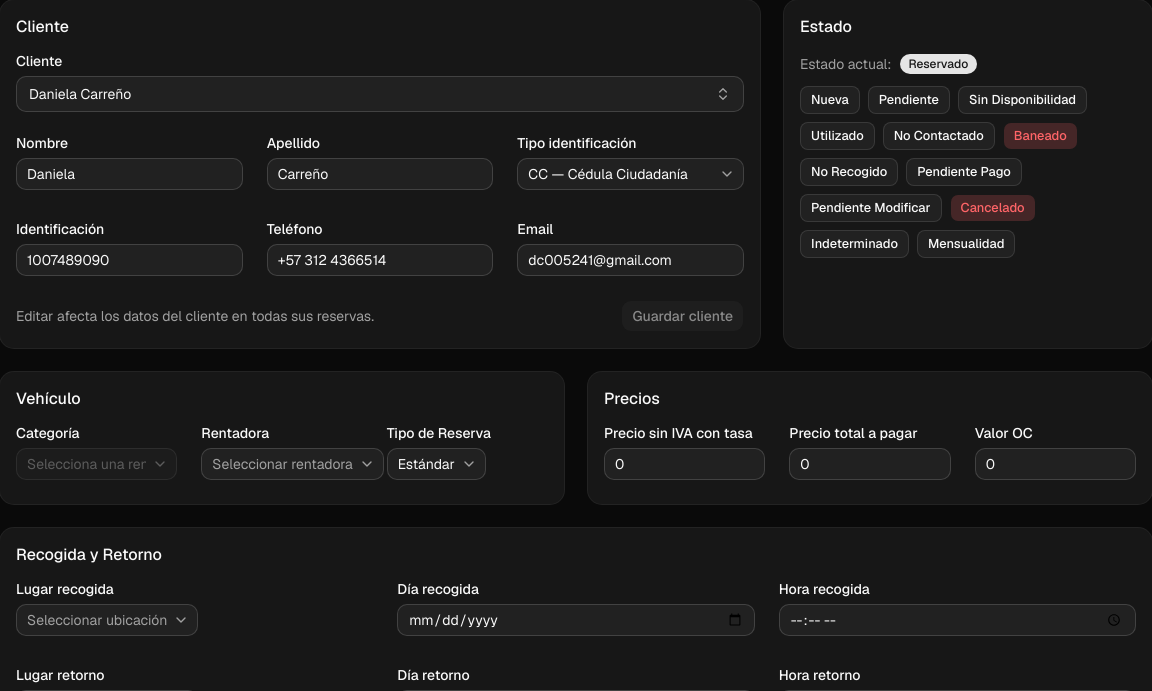
ReservationForm layout › recovers if the save action throws — no permanent 'Guardando...' freeze
This screenshot has width=1152, height=691.
Replace the text in the field labelled "Email" with "nuevo@mail.com" at x=631, y=260, box left=517, top=244, right=744, bottom=276
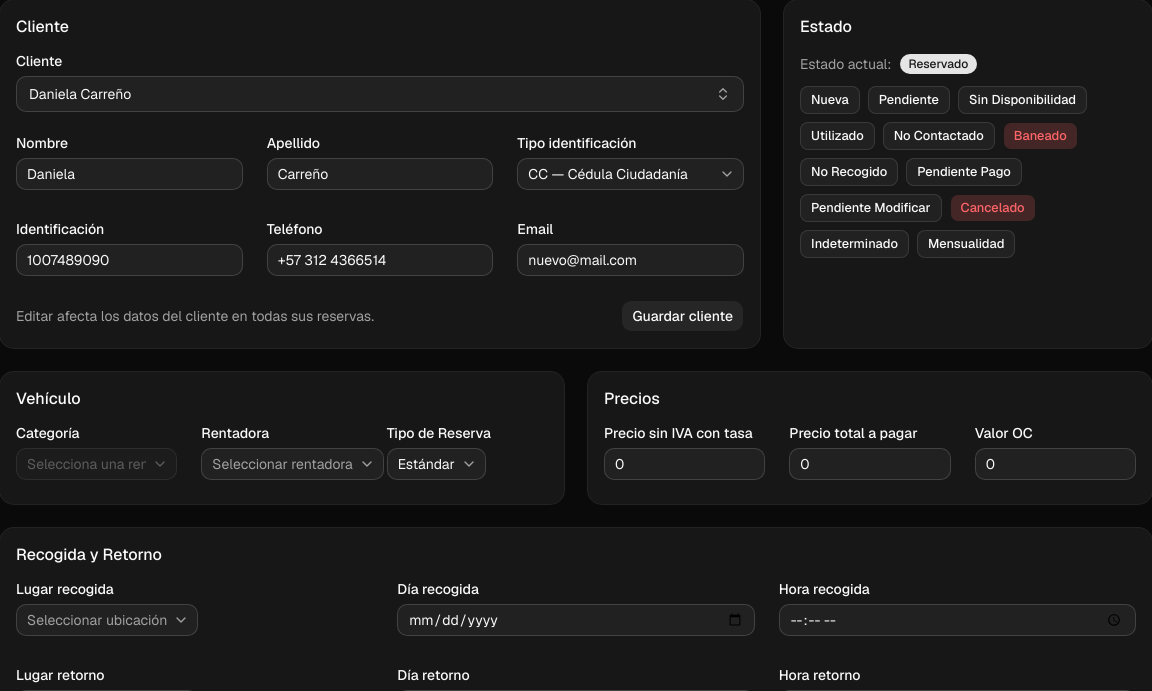
Click the button "Guardar cliente" at x=683, y=316, box left=622, top=300, right=744, bottom=332
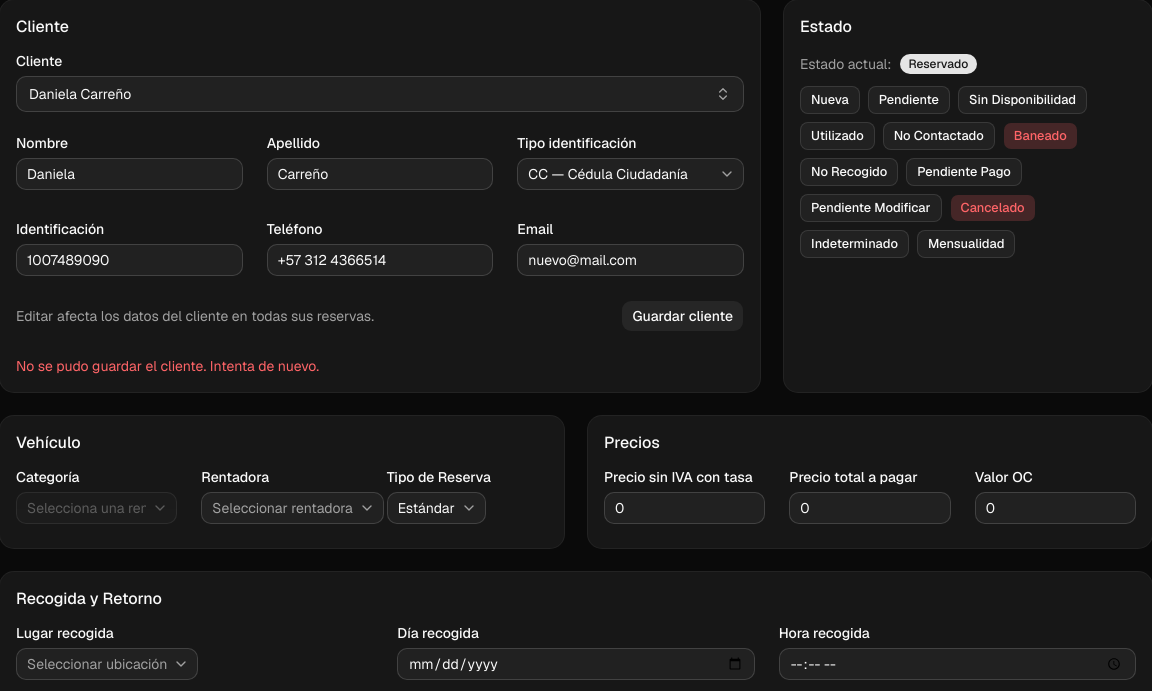
Now the button "Guardar cliente" is enabled, box left=622, top=300, right=744, bottom=332
Now the text "No se pudo guardar el cliente. Intenta de nuevo." is shown, box left=16, top=357, right=319, bottom=375
